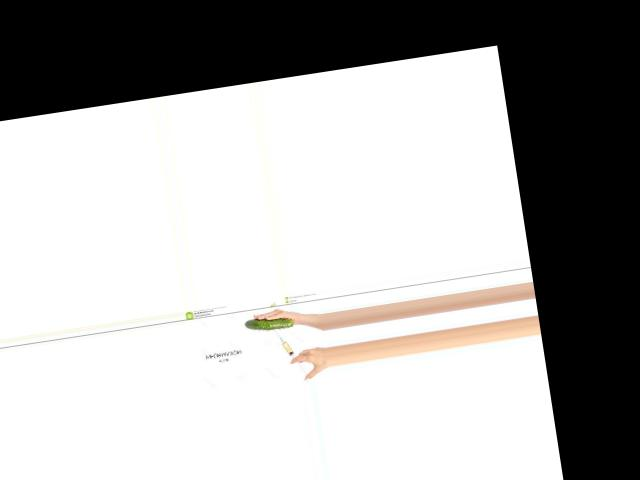cucumber: (244, 313, 294, 333)
